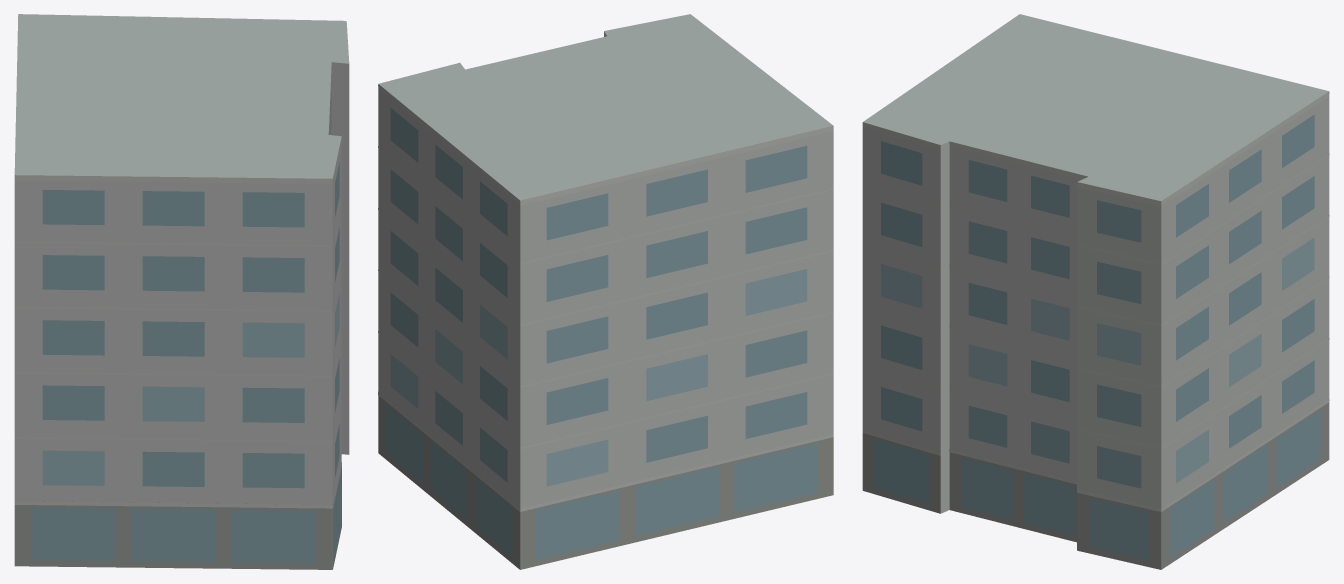
File: survey-upis-32734280.glb
The picture shows the model from 3 angles, left to right: view 1: azimuth 30°, elevation 25°; view 2: azimuth 150°, elevation 25°; view 3: azimuth 270°, elevation 25°; orthographic projection. The views are drawn at different scales.
Parts seen in each view (by area): view 1: survey-upis-32734280.tmp; view 2: survey-upis-32734280.tmp; view 3: survey-upis-32734280.tmp.
Boxes of the visible parts, bbox=[...] form: survey-upis-32734280.tmp: bbox=[14, 14, 349, 569]; survey-upis-32734280.tmp: bbox=[378, 14, 833, 569]; survey-upis-32734280.tmp: bbox=[862, 14, 1329, 569].
Bounding box in the file's own units: 18.32 × 16.8 × 19.29.
